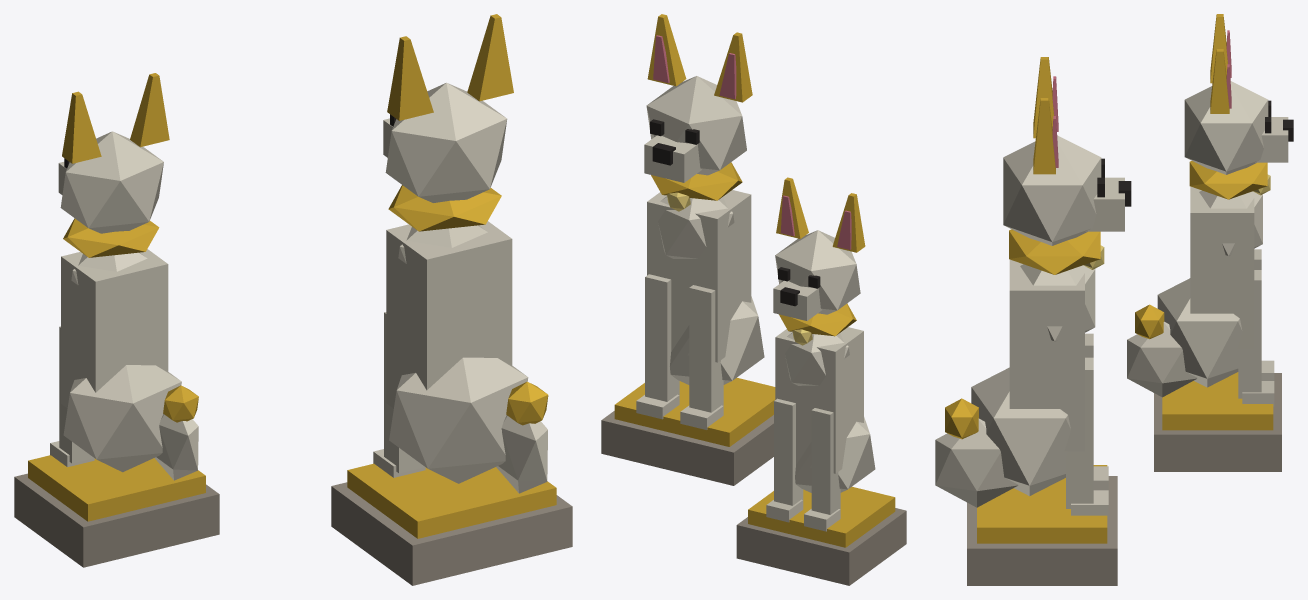
File: Decor_DogeAltar_Guardians.fbx
3 renders of one model, left to right at view 1: azimuth 30°, elevation 25°; view 2: azimuth 150°, elevation 25°; view 3: azimuth 270°, elevation 25°, orthographic. The views are drawn at different scales.
Parts seen in each view (by area): view 1: Guardians_Body; view 2: Guardians_Body; view 3: Guardians_Body.
Boxes of the visible parts, <box> form: Guardians_Body: <box>14,14,572,585</box>; Guardians_Body: <box>601,14,906,585</box>; Guardians_Body: <box>935,14,1293,585</box>.
Bounding box in the file's own units: 14.55 × 18.2 × 12.55.
